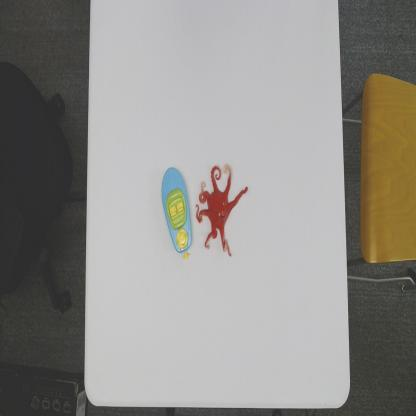Boat: (161, 166, 193, 260)
Octopus: (195, 162, 249, 258)
